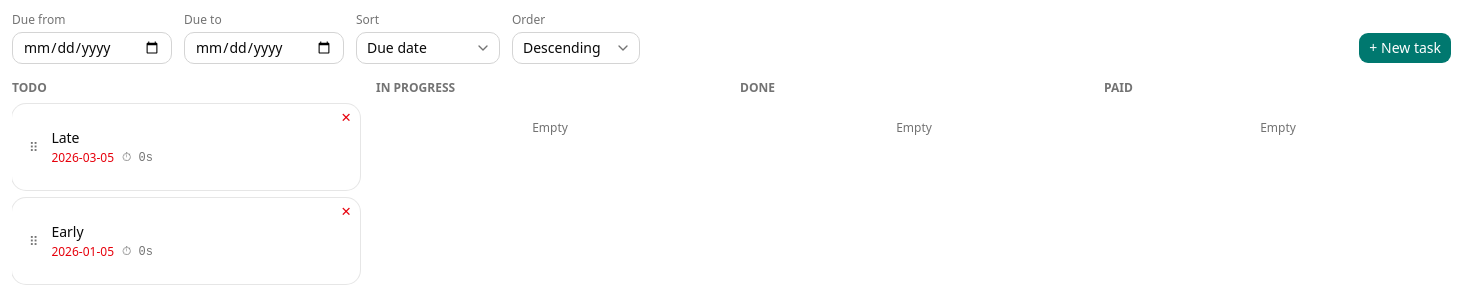
Scenario: TasksTab › hides tasks whose due date falls after the to filter
Type "2026-02-01" into the date field labelled "Due to" at (264, 48), box [184,32,344,64]
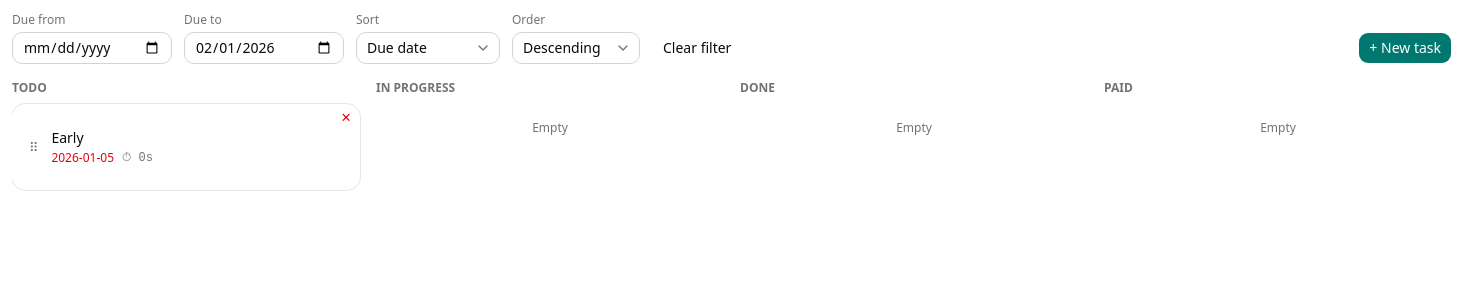
Expected: the text "Early" is shown, [51,128,84,147]
Expected: the text "Late" is gone
